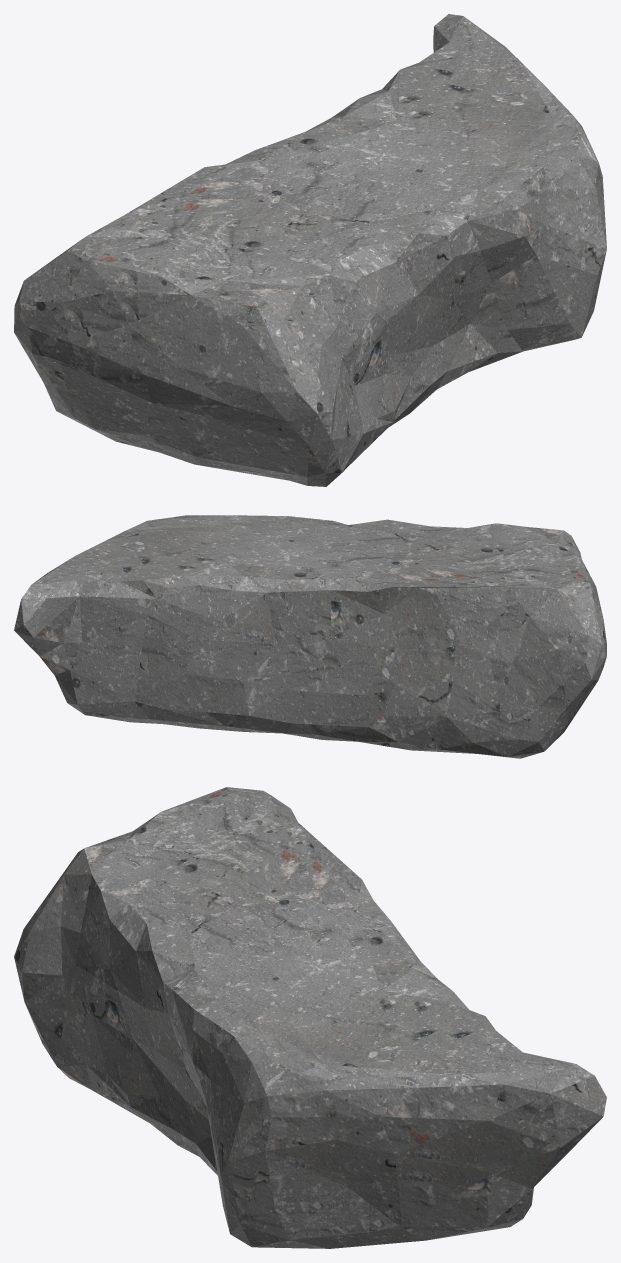
Rendered from Intresto_rock_for_landscape_03.dae.
3 renders of one model, top to bottom at view 1: azimuth 30°, elevation 25°; view 2: azimuth 150°, elevation 25°; view 3: azimuth 270°, elevation 25°, orthographic. The views are drawn at different scales.
Parts seen in each view (by area): view 1: group_0; view 2: group_0; view 3: group_0.
Boxes of the visible parts, x1,y1,x2,y2 form: group_0: [14, 14, 606, 486]; group_0: [14, 515, 606, 758]; group_0: [14, 787, 606, 1248].
Size of the model in its own units: 16.13 by 13.64 by 5.62.
